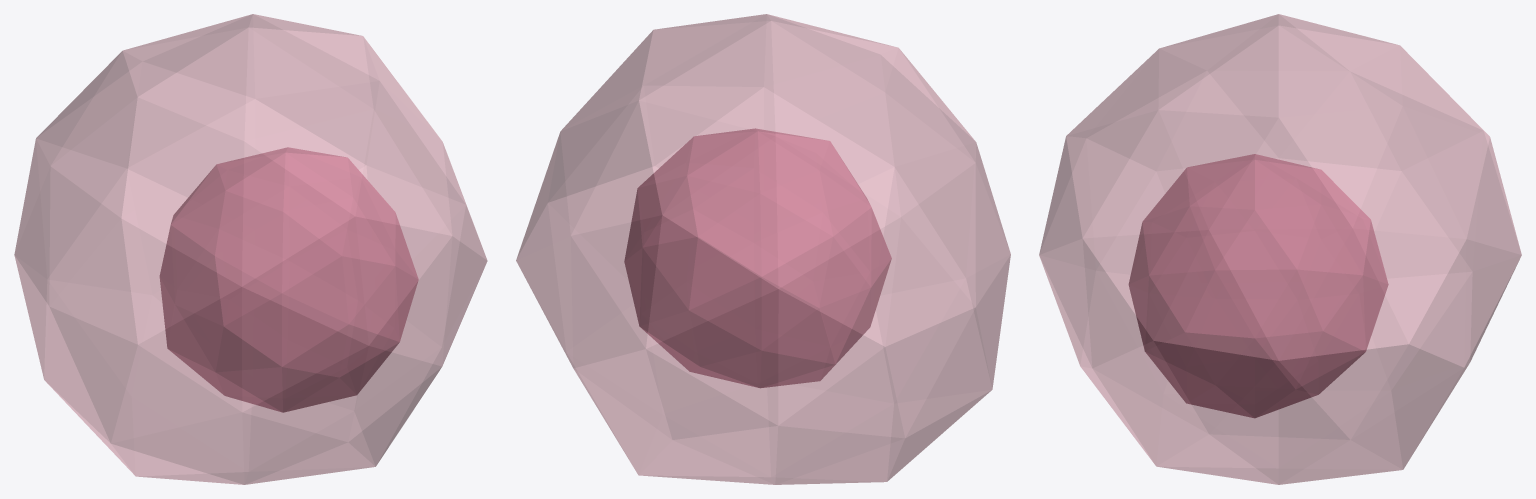
File: tcell.obj
The picture shows the model from 3 angles, left to right: view 1: azimuth 30°, elevation 25°; view 2: azimuth 150°, elevation 25°; view 3: azimuth 270°, elevation 25°; orthographic projection. The views are drawn at different scales.
Parts seen in each view (by area): view 1: part0, part1; view 2: part0, part1; view 3: part0, part1.
Part boxes in pixels (left/top/right/bottom): part0: left=14, top=14, right=487, bottom=484; part1: left=159, top=147, right=418, bottom=412; part0: left=516, top=14, right=1010, bottom=484; part1: left=624, top=128, right=891, bottom=388; part0: left=1039, top=14, right=1521, bottom=484; part1: left=1128, top=154, right=1388, bottom=418.
Size of the model in its own units: 2 by 2.04 by 2.02.
